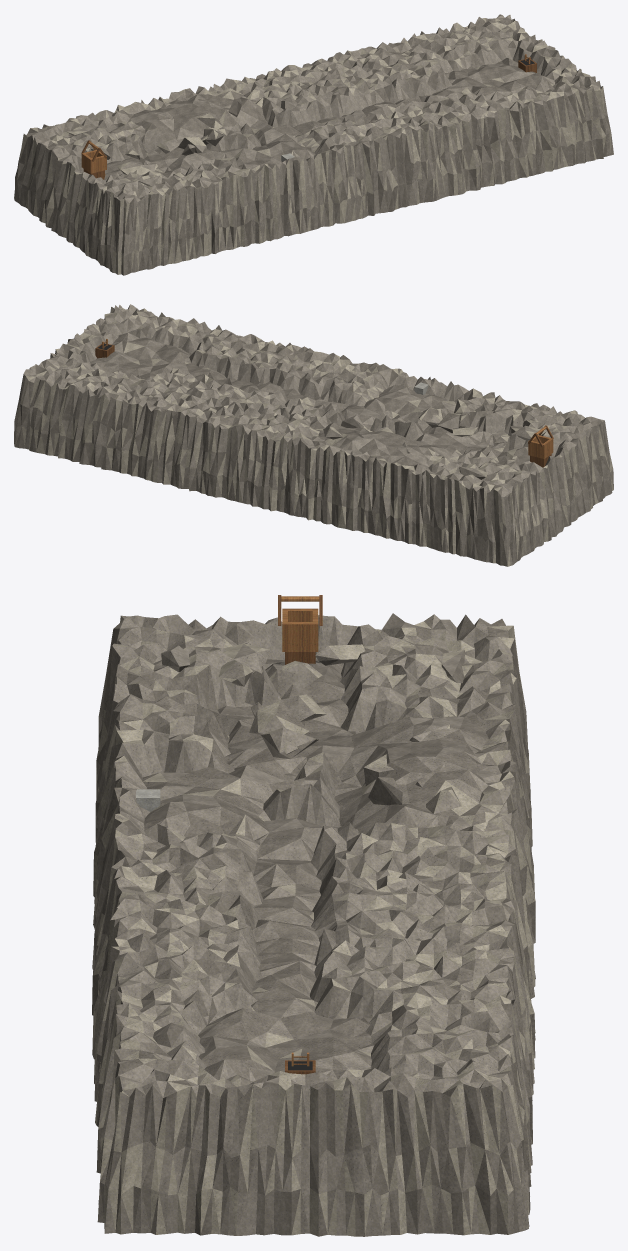
Rendered from cavern.glb.
The picture shows the model from 3 angles, top to bottom: view 1: azimuth 30°, elevation 25°; view 2: azimuth 150°, elevation 25°; view 3: azimuth 270°, elevation 25°; orthographic projection. The views are drawn at different scales.
Visible parts, largest first — view 1: Cavern_ShellSkin, Cavern_ShellRockTop, Cavern_RoofCeiling, Cavern_RoofBoulders, Cavern_RoofShaftHead; view 2: Cavern_ShellSkin, Cavern_ShellRockTop, Cavern_RoofCeiling, Cavern_RoofBoulders, Cavern_RoofShaftHead; view 3: Cavern_ShellRockTop, Cavern_ShellSkin, Cavern_RoofCeiling, Cavern_RoofBoulders, Cavern_RoofShaftHead.
Boxes of the visible parts, x1,y1,x2,y2 form: Cavern_ShellSkin: (14,37,613,275); Cavern_ShellRockTop: (24,14,602,203); Cavern_RoofCeiling: (81,58,554,181); Cavern_RoofBoulders: (66,88,243,186); Cavern_RoofShaftHead: (81,140,106,173); Cavern_ShellSkin: (14,315,613,566); Cavern_ShellRockTop: (23,304,604,497); Cavern_RoofCeiling: (90,332,531,466); Cavern_RoofBoulders: (323,407,556,479); Cavern_RoofShaftHead: (528,425,553,458); Cavern_ShellRockTop: (110,613,516,1097); Cavern_ShellSkin: (92,616,535,1236); Cavern_RoofCeiling: (142,659,488,1081); Cavern_RoofBoulders: (161,643,464,813); Cavern_RoofShaftHead: (278,595,322,651).
Bounding box in the file's own units: 42.01 × 7.13 × 16.06.
21 materials, 12 textured.
